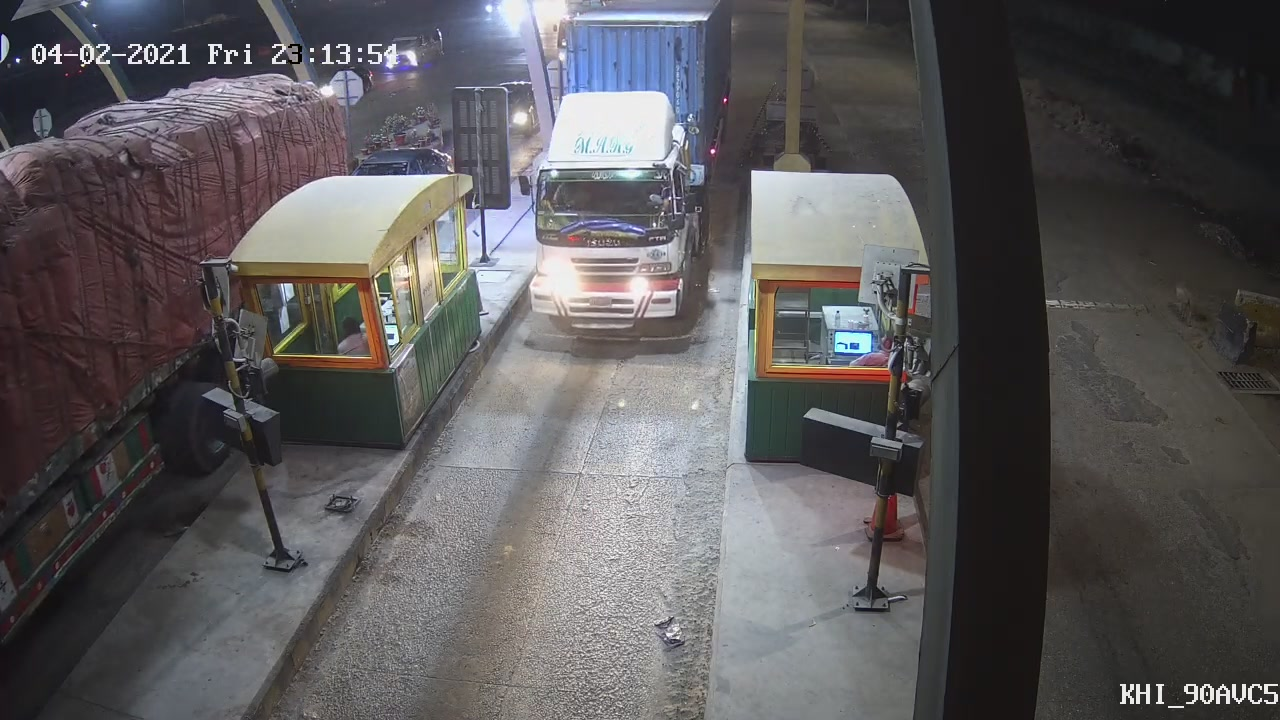F6: (516, 1, 743, 353)
